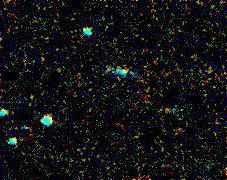star: (109, 55, 139, 85)
